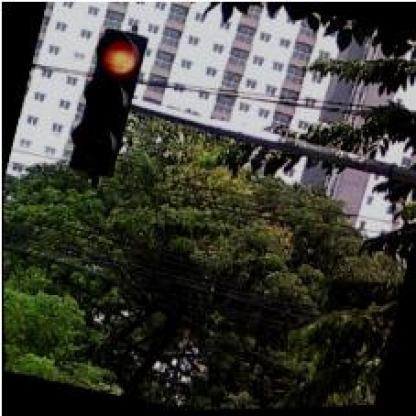red: (65, 27, 148, 178)
